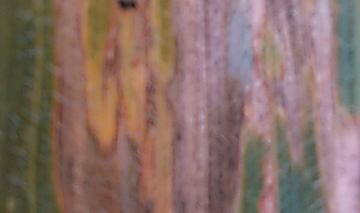tarspot: (116, 1, 139, 12), (175, 132, 182, 142)
